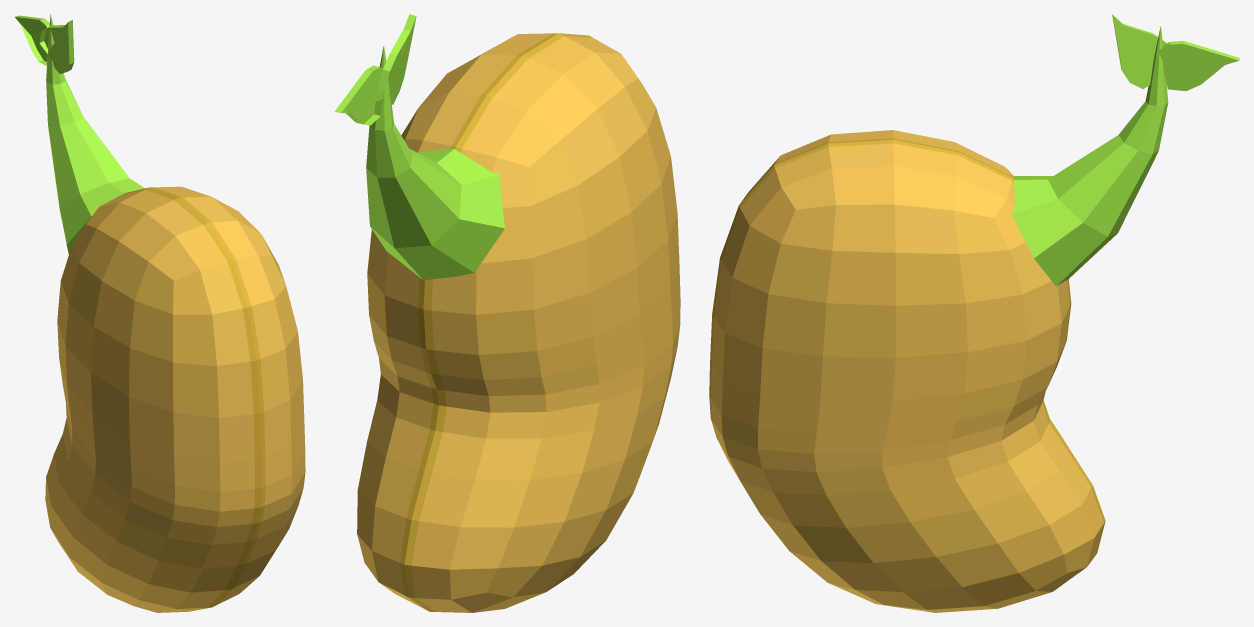
The model's file is seed.glb.
3 views of the same model, side by side, from view 1: azimuth 30°, elevation 25°; view 2: azimuth 150°, elevation 25°; view 3: azimuth 270°, elevation 25° (orthographic). The views are drawn at different scales.
Parts seen in each view (by area): view 1: Cube, Cylinder, Cube.002, Cube.001; view 2: Cube, Cylinder, Cube.001, Cube.002; view 3: Cube, Cylinder, Cube.001, Cube.002.
Boxes of the visible parts, left/top/right/bottom form: Cube: left=45, top=186, right=305, bottom=612; Cylinder: left=46, top=14, right=144, bottom=254; Cube.002: left=39, top=20, right=74, bottom=73; Cube.001: left=15, top=15, right=49, bottom=65; Cube: left=357, top=33, right=680, bottom=612; Cylinder: left=366, top=46, right=504, bottom=280; Cube.001: left=334, top=65, right=383, bottom=125; Cube.002: left=378, top=14, right=416, bottom=104; Cube: left=709, top=130, right=1105, bottom=612; Cylinder: left=1011, top=26, right=1168, bottom=286; Cube.001: left=1156, top=41, right=1239, bottom=91; Cube.002: left=1112, top=14, right=1166, bottom=88.
Bounding box in the file's own units: 3.62 × 9.97 × 8.23.
